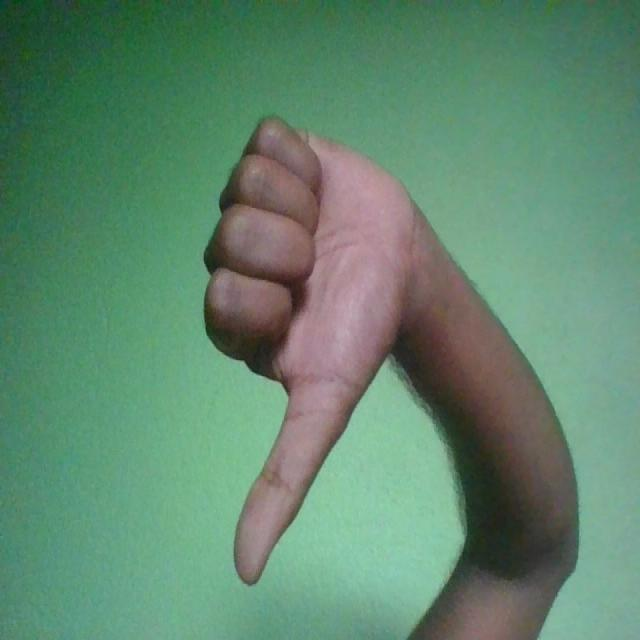Dislike: (206, 112, 416, 585)
